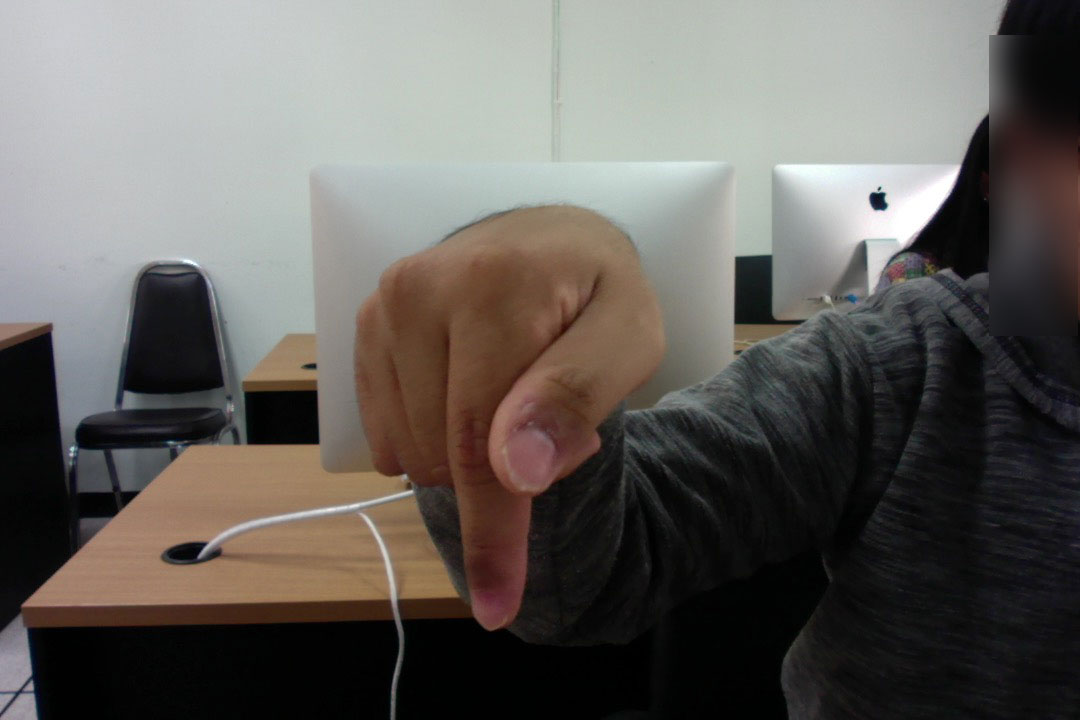por: (342, 195, 674, 635)
